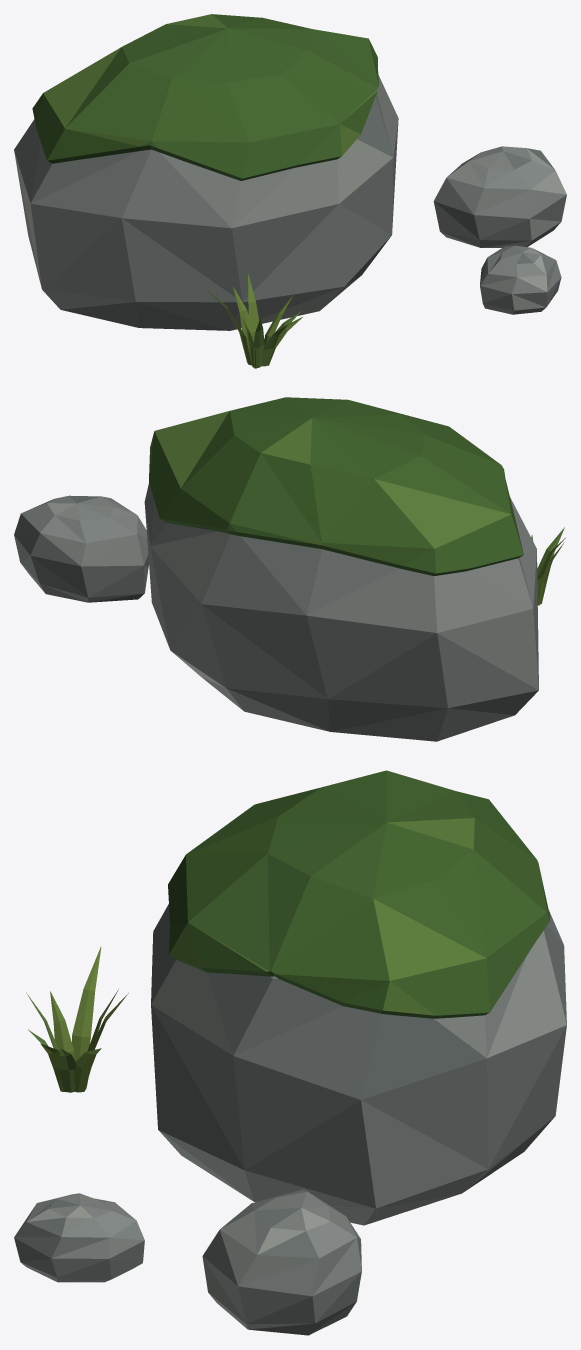
3 renders of one model, top to bottom at view 1: azimuth 30°, elevation 25°; view 2: azimuth 150°, elevation 25°; view 3: azimuth 270°, elevation 25°, orthographic. The views are drawn at different scales.
Parts seen in each view (by area): view 1: mossy-boulder.body, mossy-boulder.moss, mossy-boulder.rock_large, mossy-boulder.rock_small, mossy-boulder.grass; view 2: mossy-boulder.body, mossy-boulder.moss, mossy-boulder.rock_large, mossy-boulder.grass; view 3: mossy-boulder.body, mossy-boulder.moss, mossy-boulder.rock_large, mossy-boulder.rock_small, mossy-boulder.grass.
Boxes of the visible parts, x1,y1,x2,y2 form: mossy-boulder.body: (14,75,398,330); mossy-boulder.moss: (32,14,378,180); mossy-boulder.rock_large: (433,146,566,247); mossy-boulder.rock_small: (480,245,561,314); mossy-boulder.grass: (204,274,302,368); mossy-boulder.body: (144,483,538,741); mossy-boulder.moss: (149,397,523,576); mossy-boulder.rock_large: (14,495,148,602); mossy-boulder.grass: (531,527,565,605); mossy-boulder.body: (151,904,566,1225); mossy-boulder.moss: (168,770,549,1018); mossy-boulder.rock_large: (202,1189,361,1335); mossy-boulder.rock_small: (14,1193,144,1282); mossy-boulder.grass: (26,947,128,1092).
Bounding box in the file's own units: 2.99 × 1.34 × 2.09.
